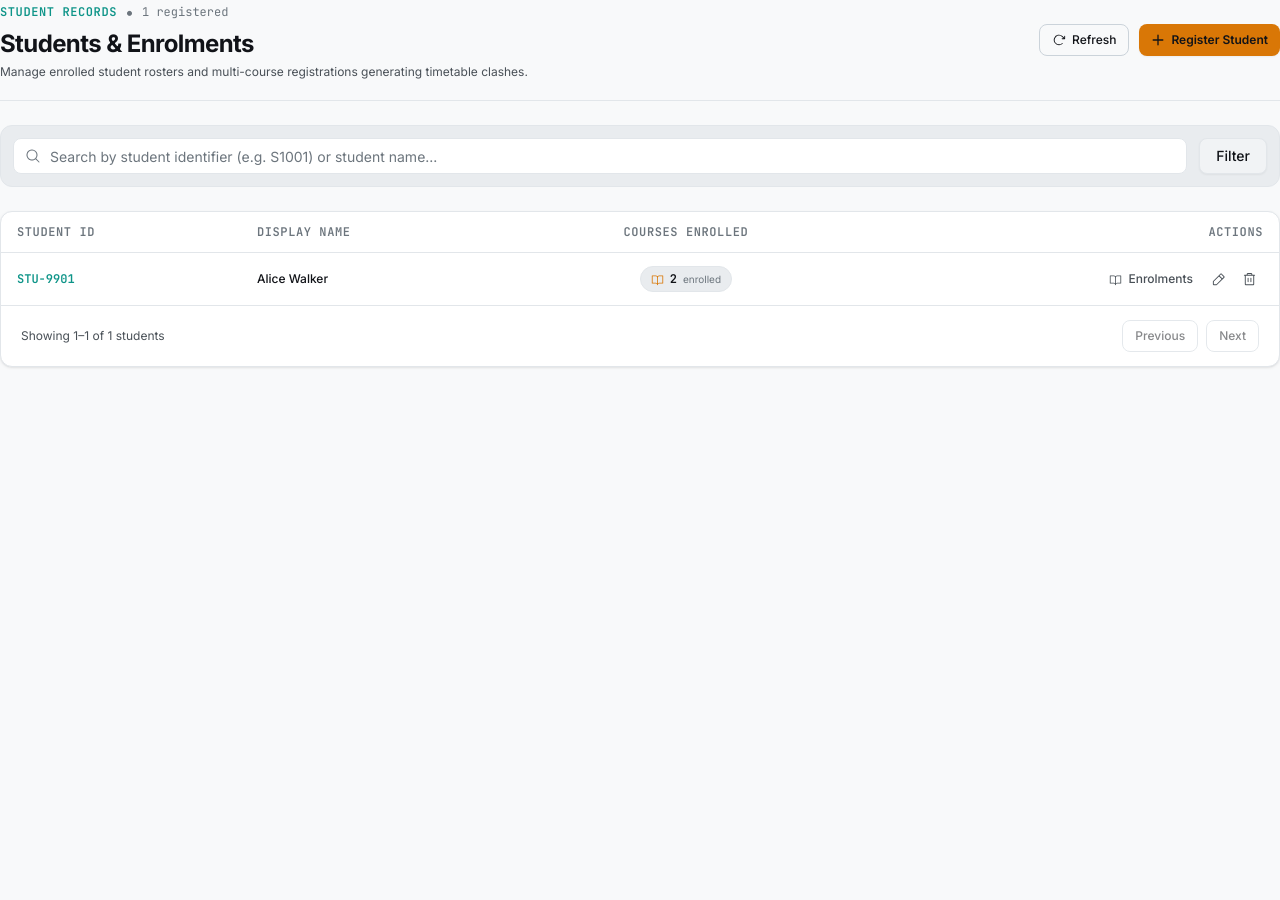
Test: Phase 5 Integration Tests › StudentsPage › renders students list and opens course enrolment modal
Expected: the element with test id "students-page" is shown, [0, 0, 1279, 367]
Expected: the text "STU-9901" is shown, [1, 252, 241, 305]
Note: Open manage enrolments modal
Step 1. Click the button titled "Manage course enrolments" → click(686, 279), box [640, 266, 732, 292]
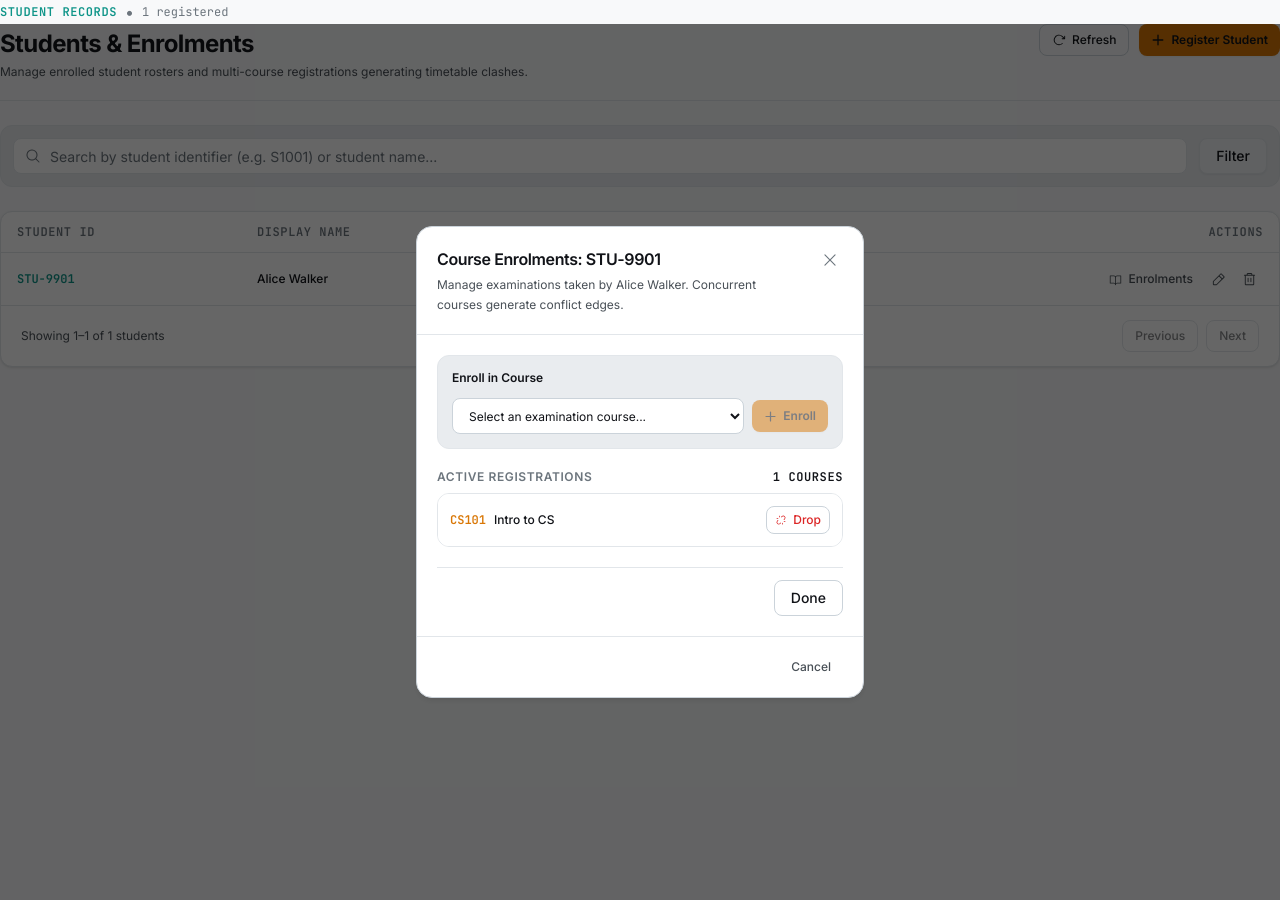
Expected: the element with test id "enrolment-modal" is shown, [437, 355, 843, 616]
Expected: the text "Enroll in Course" is shown, [452, 370, 543, 385]
